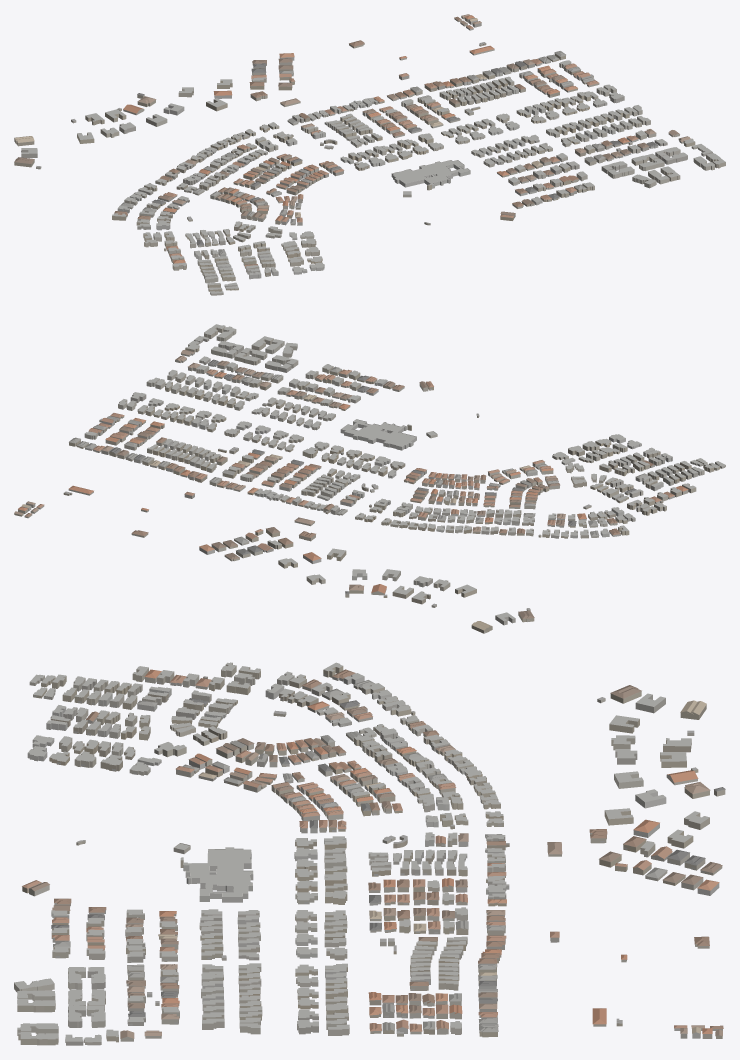
The model's file is buildings_r3_c2.glb.
3 renders of one model, top to bottom at view 1: azimuth 30°, elevation 25°; view 2: azimuth 150°, elevation 25°; view 3: azimuth 270°, elevation 25°, orthographic. The views are drawn at different scales.
Parts seen in each view (by area): view 1: buildings_r3_c2; view 2: buildings_r3_c2; view 3: buildings_r3_c2.
Part boxes in pixels (x1,y1,x2,y2): buildings_r3_c2: [14, 14, 725, 295]; buildings_r3_c2: [14, 324, 725, 633]; buildings_r3_c2: [14, 662, 725, 1045].
Bounding box in the file's own units: 1045 × 50.87 × 815.
